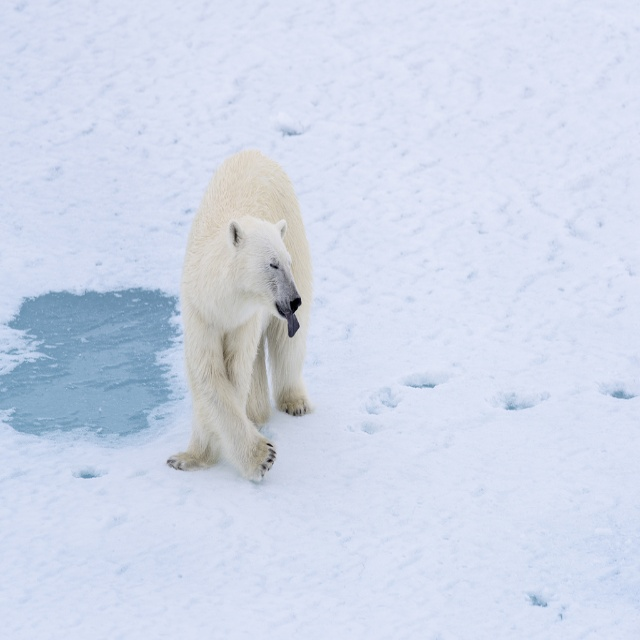Polar bear: (166, 145, 313, 483)
